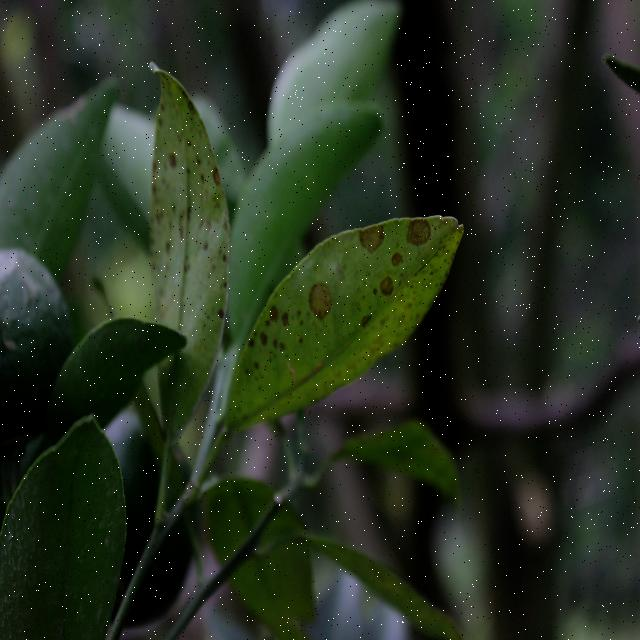melanose: (234, 200, 470, 439), (141, 72, 233, 386)
